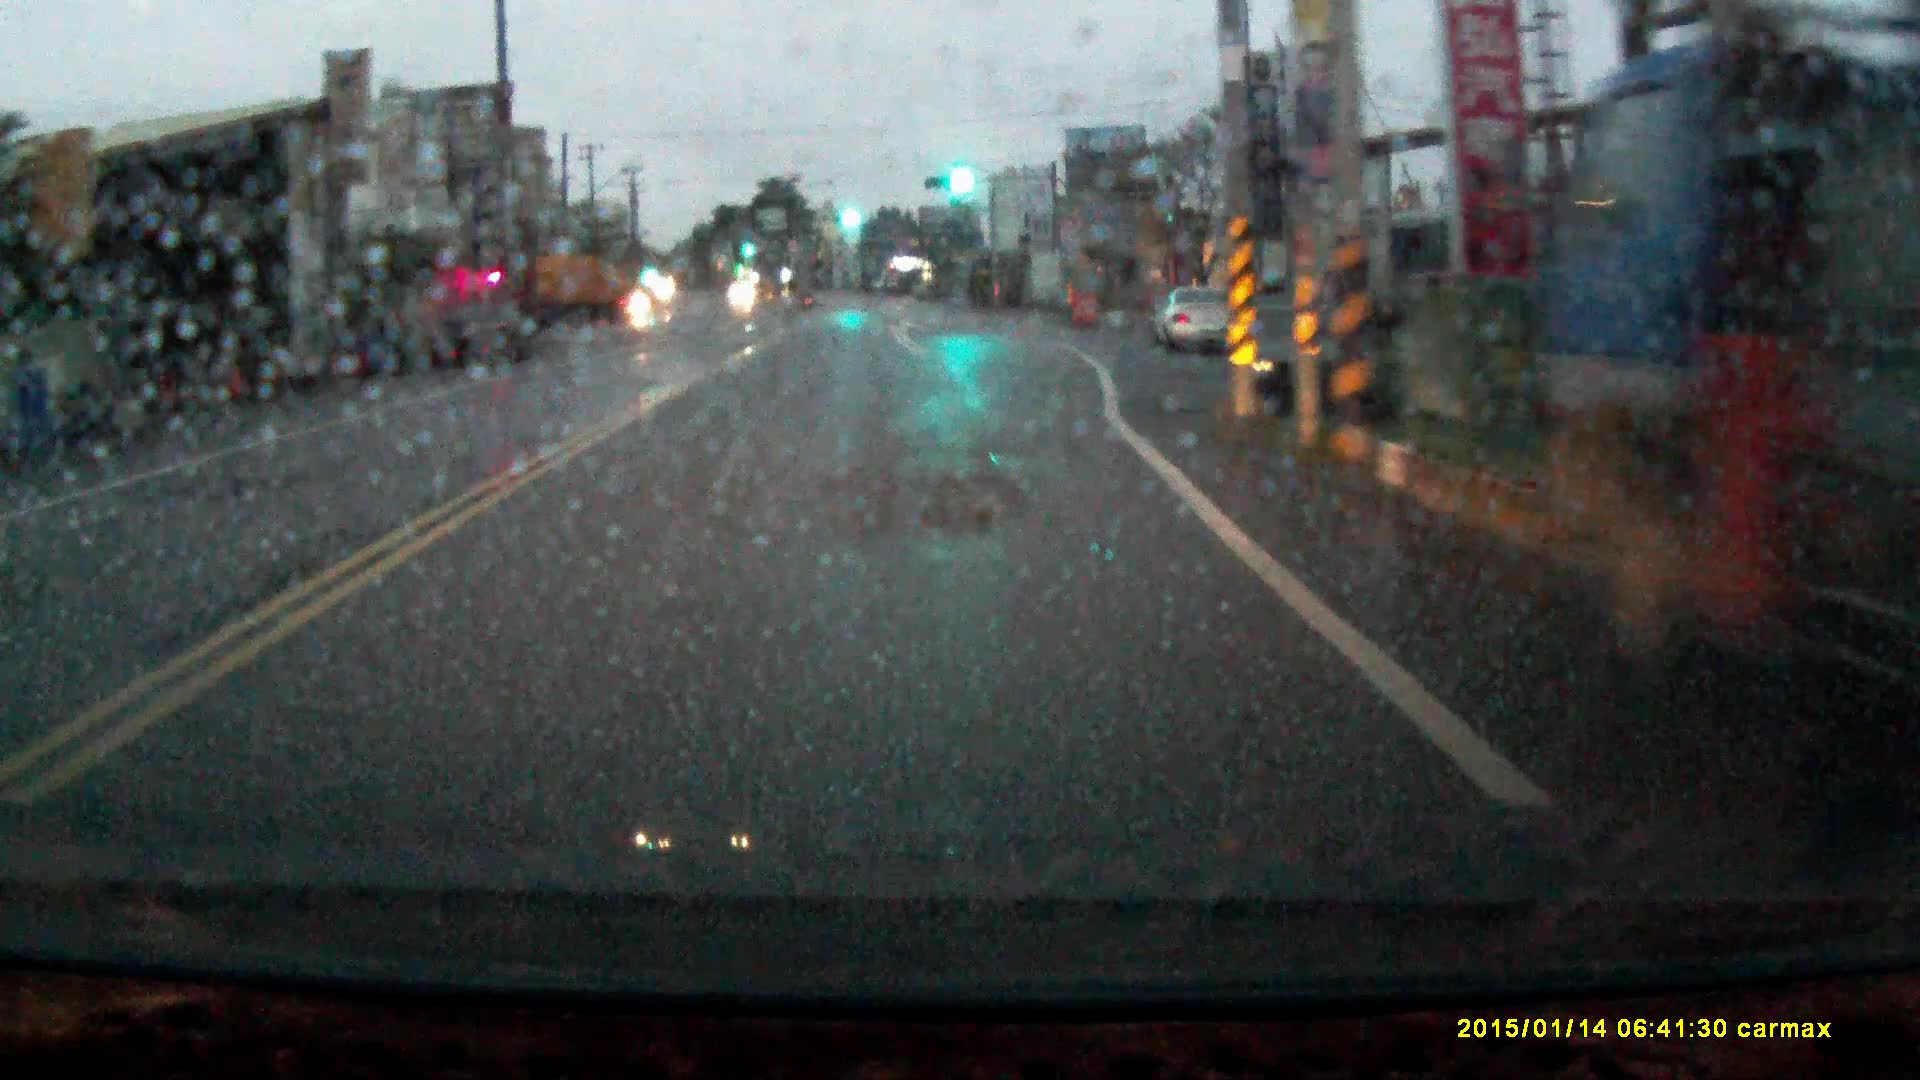rider: (626, 271, 657, 334)
vehicle: (1215, 294, 1372, 421), (514, 258, 626, 331), (438, 305, 543, 372), (1148, 288, 1229, 354)
